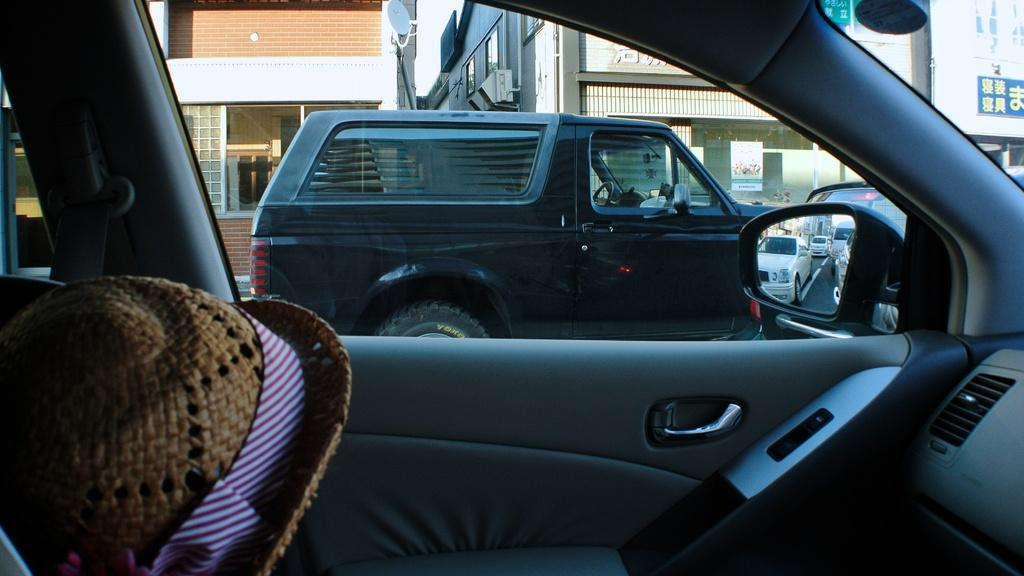Hat: (0, 274, 352, 574)
